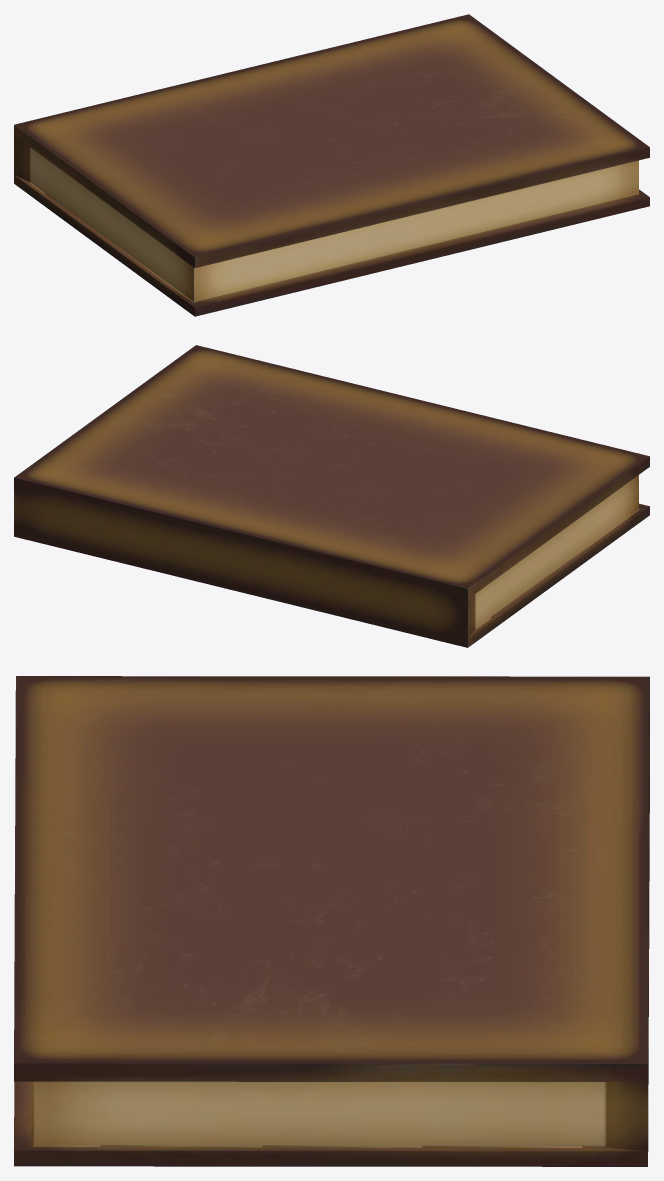
File: Book.glb
The picture shows the model from 3 angles, top to bottom: view 1: azimuth 30°, elevation 25°; view 2: azimuth 150°, elevation 25°; view 3: azimuth 270°, elevation 25°; orthographic projection. The views are drawn at different scales.
Parts seen in each view (by area): view 1: Book; view 2: Book; view 3: Book.
Part boxes in pixels (box(x1,y1,x2,y2)): Book: box(14, 14, 649, 316); Book: box(14, 345, 649, 647); Book: box(14, 676, 649, 1166).
Size of the model in its own units: 0.3438 by 0.0426 by 0.2383.
1 material, 1 textured.
